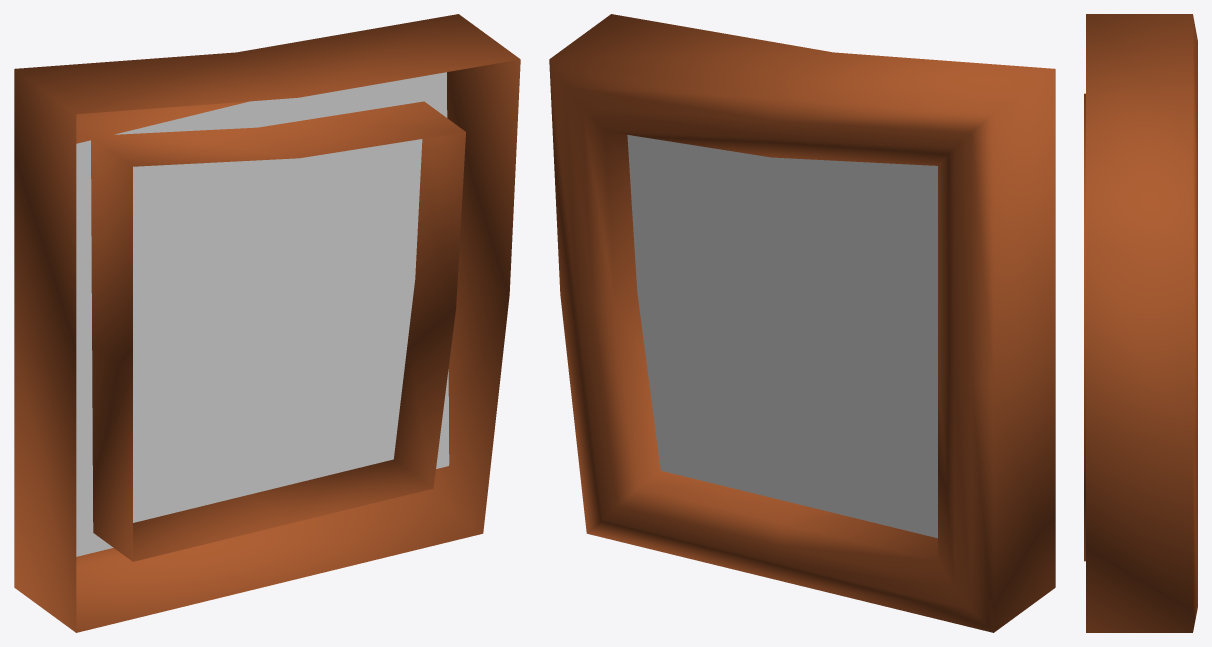
File: props_wall_painting_frame_9(1).fbx
3 renders of one model, left to right at view 1: azimuth 30°, elevation 25°; view 2: azimuth 150°, elevation 25°; view 3: azimuth 270°, elevation 25°, orthographic. The views are drawn at different scales.
Visible parts, largest first — view 1: Cube.110, Plane; view 2: Cube.110, Plane; view 3: Cube.110.
Boxes of the visible parts, x1,y1,x2,y2 form: Cube.110: [14, 14, 520, 632]; Plane: [76, 72, 449, 556]; Cube.110: [549, 14, 1055, 632]; Plane: [627, 135, 937, 538]; Cube.110: [1084, 14, 1197, 632].
Size of the model in its own units: 0.7228 by 0.1857 by 0.8061.
